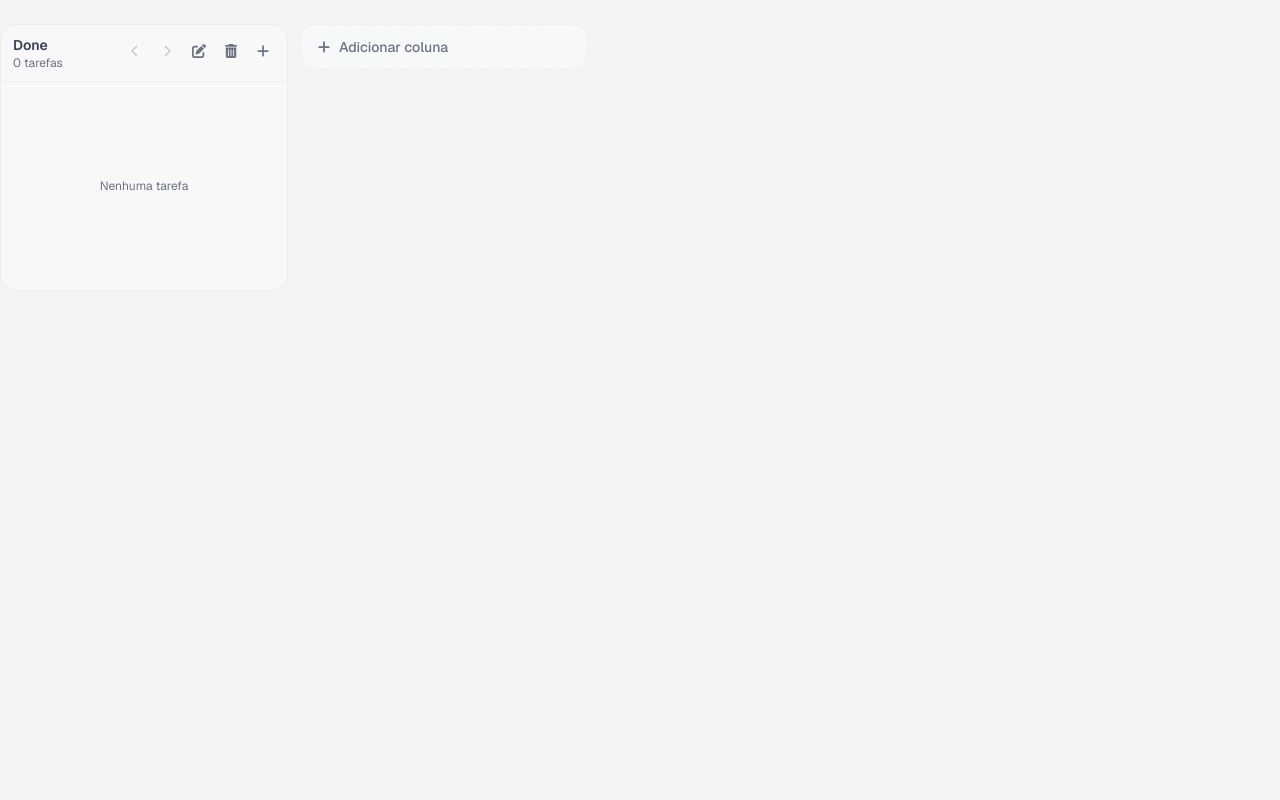
it: gestão de colunas no ProjectKanban › exclui coluna com confirmação
Click the button named "Excluir Done".
click(231, 51)  # box [215,35,247,67]
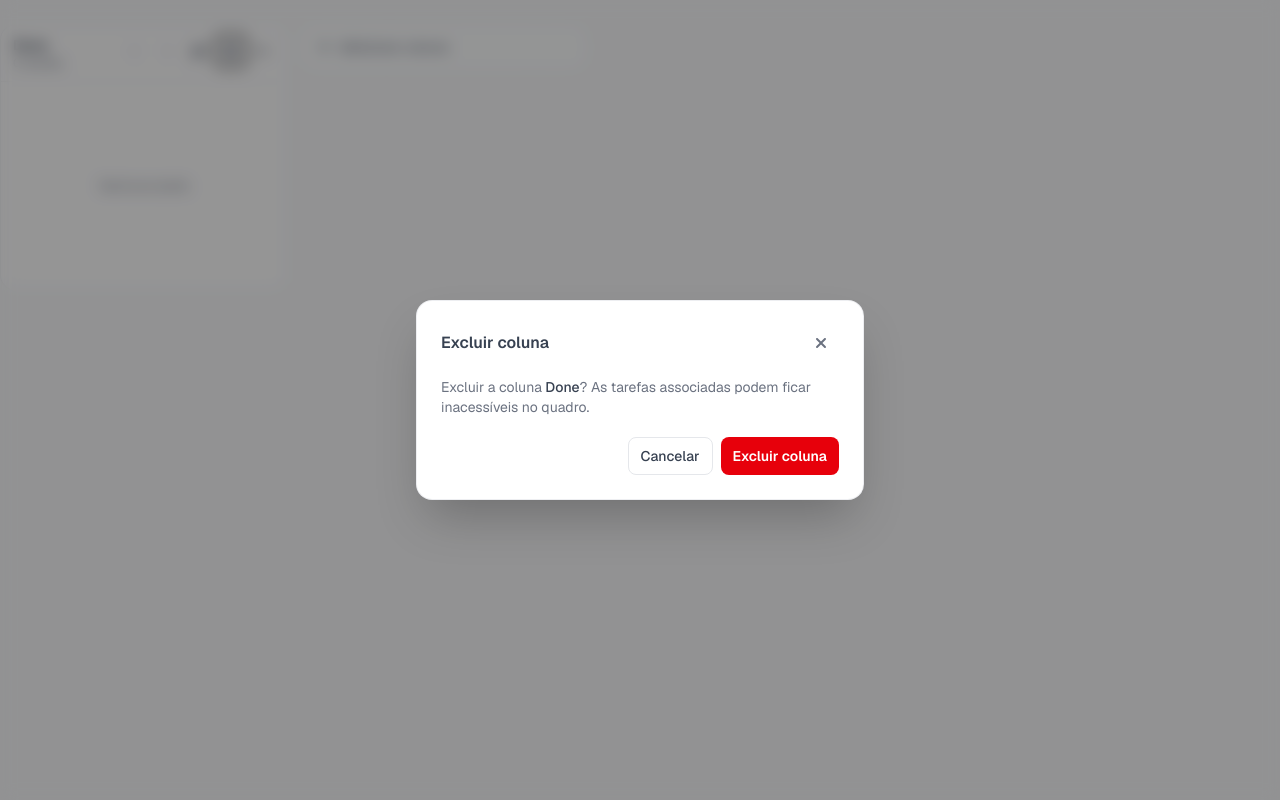
Expected: the dialog "Excluir coluna" is shown
Click the button "Excluir coluna".
click(780, 456)  # box [720,437,839,475]
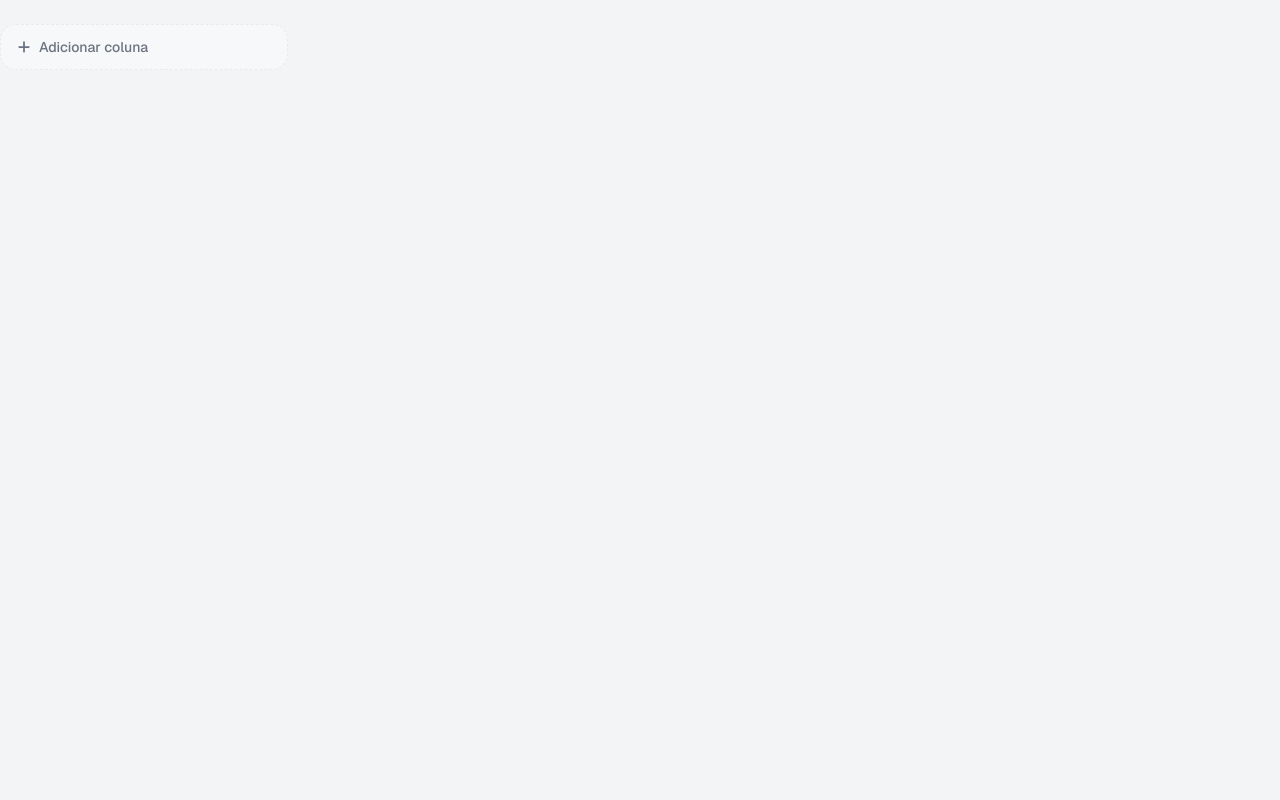
Expected: the heading "Done" is gone
